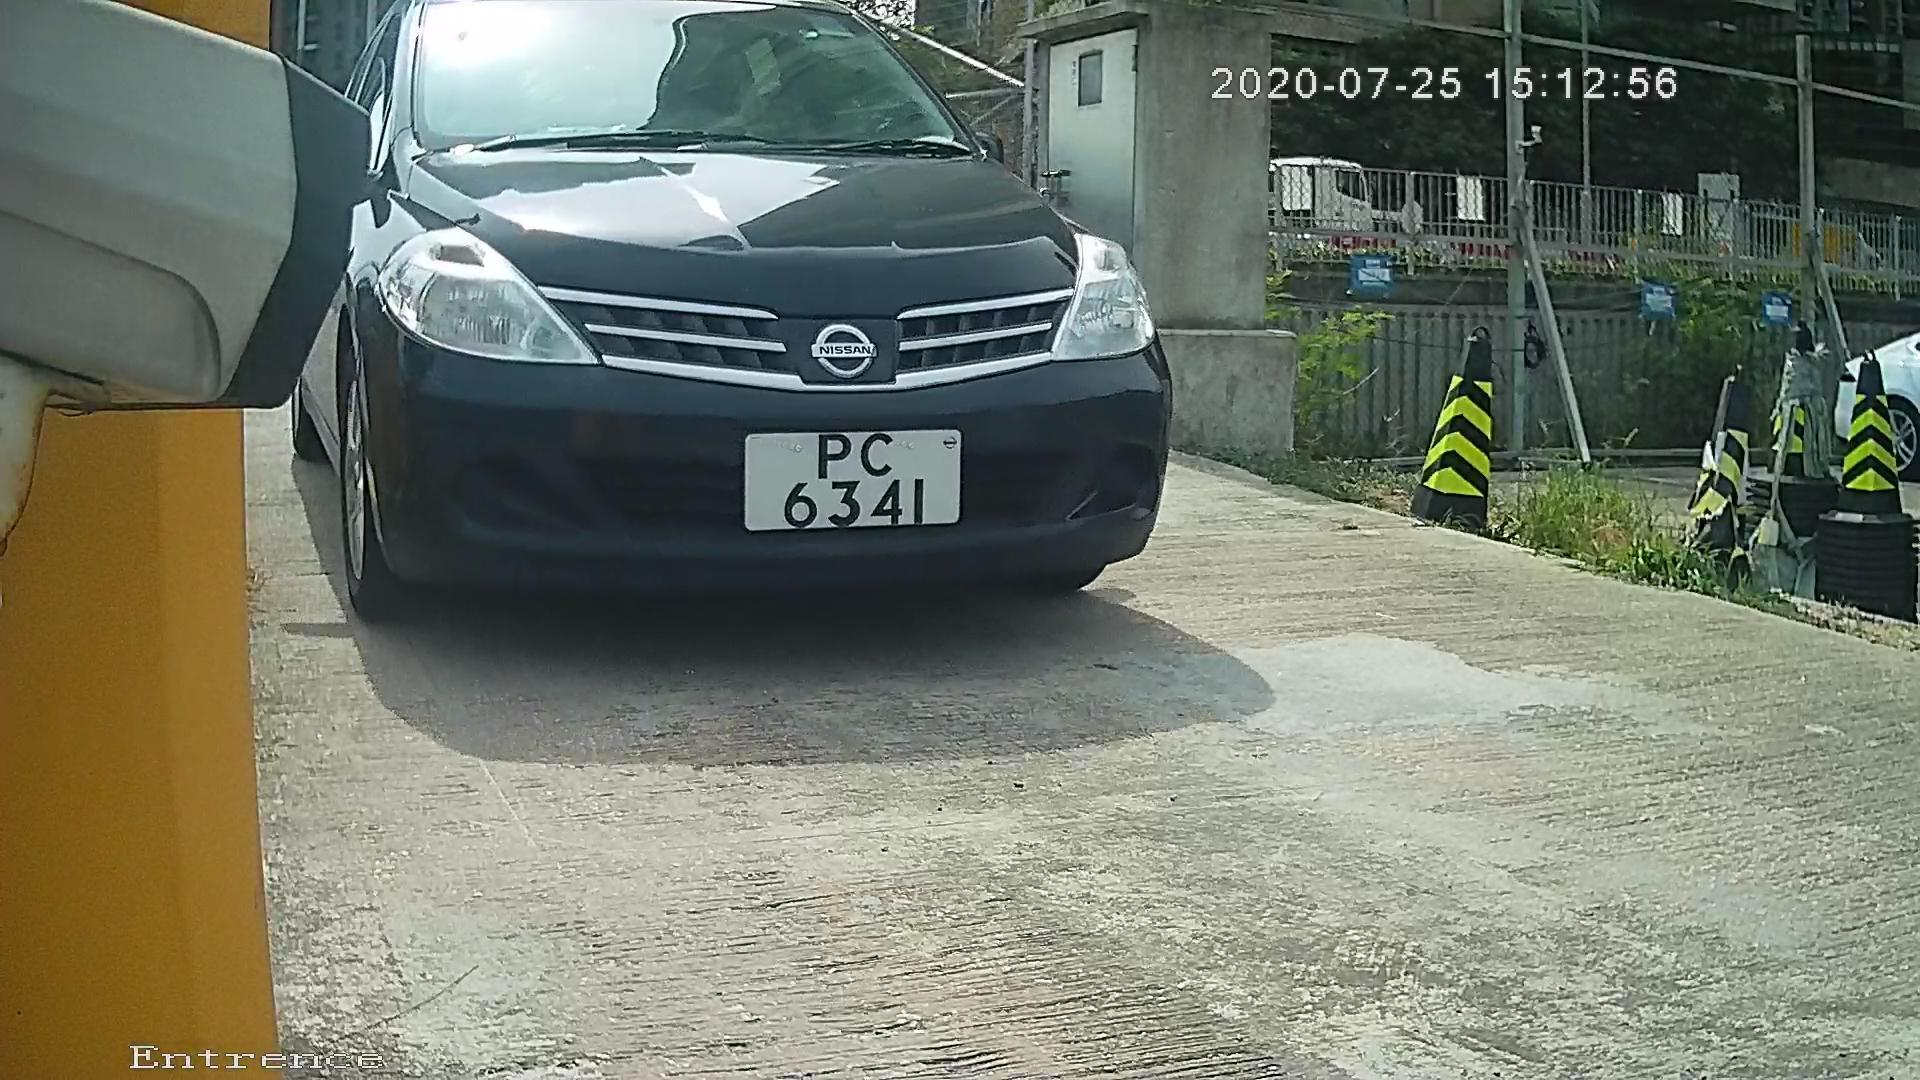Car: (138, 1, 1269, 690)
License Plate: (721, 420, 978, 550)
